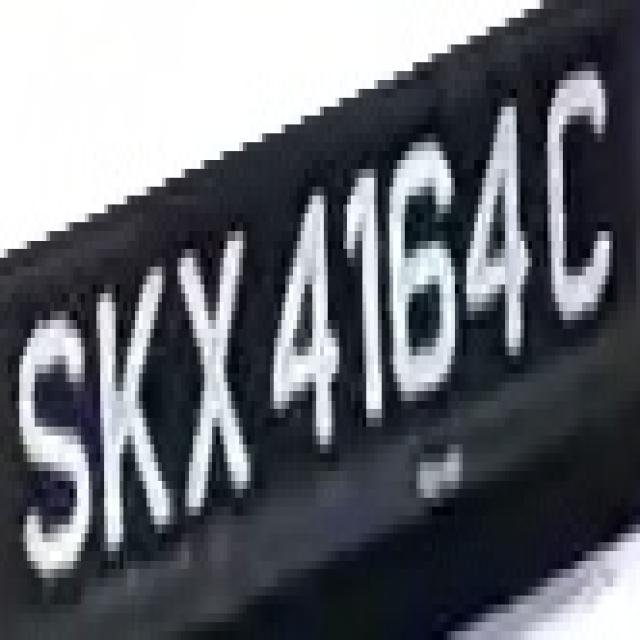1: (343, 124, 393, 436)
4: (451, 80, 532, 391), (258, 160, 339, 462)
6: (382, 124, 470, 418)
C: (536, 62, 609, 347)
K: (85, 214, 177, 596)
S: (0, 266, 93, 586)
X: (162, 213, 262, 560)
